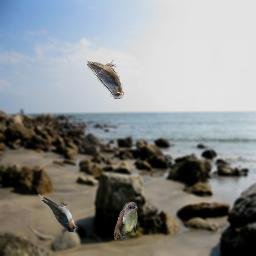Cuckoo: (114, 202, 138, 240)
Swallow: (38, 194, 78, 232), (87, 59, 124, 99)
